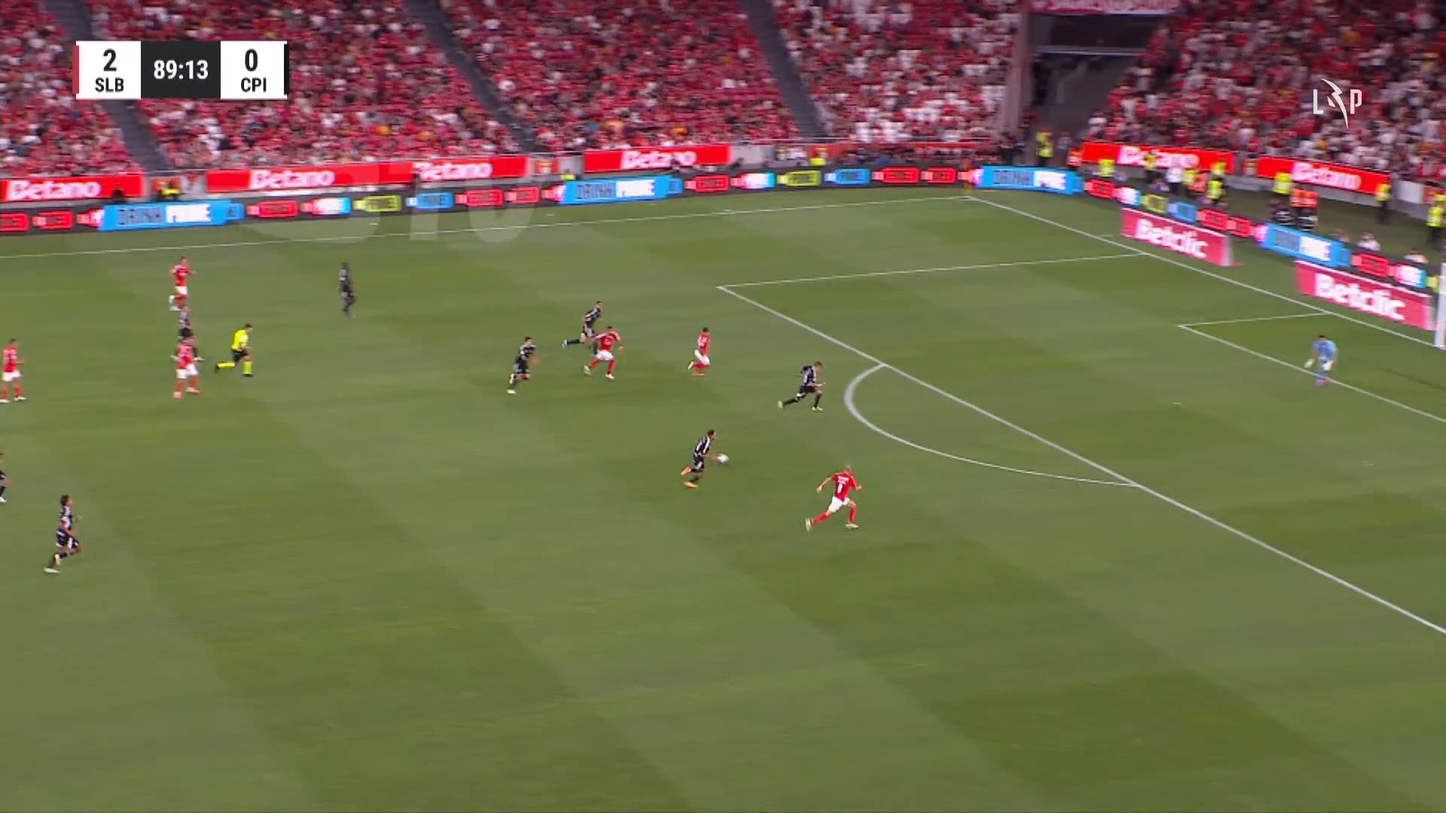ball: (716, 452, 728, 463)
goalkeeper: (1303, 333, 1338, 386)
player: (804, 463, 862, 532), (42, 493, 84, 574), (776, 360, 826, 412), (581, 324, 624, 380), (679, 428, 717, 489), (170, 330, 203, 398), (561, 300, 603, 348), (505, 335, 538, 394), (0, 337, 26, 403), (168, 255, 197, 310), (686, 326, 712, 376), (168, 292, 194, 338), (337, 260, 357, 318), (0, 451, 9, 504)
referee: (214, 321, 255, 377)
